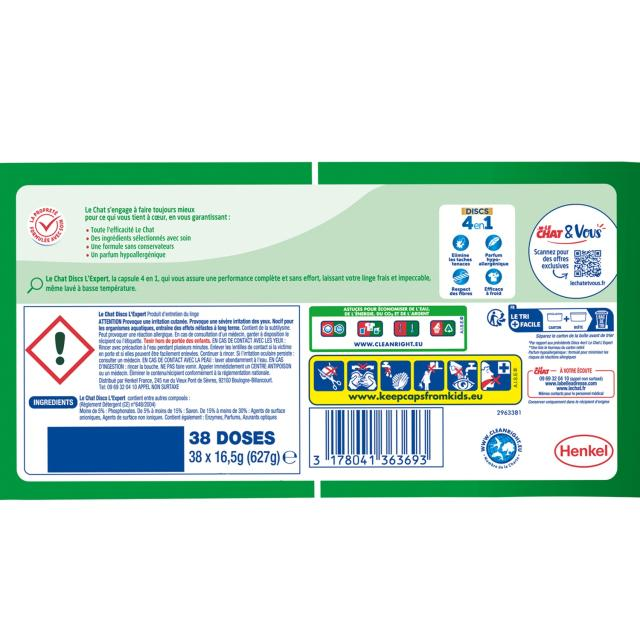GHS_Symbol_EXCLAMATION_MARK: (27, 316, 94, 385)
